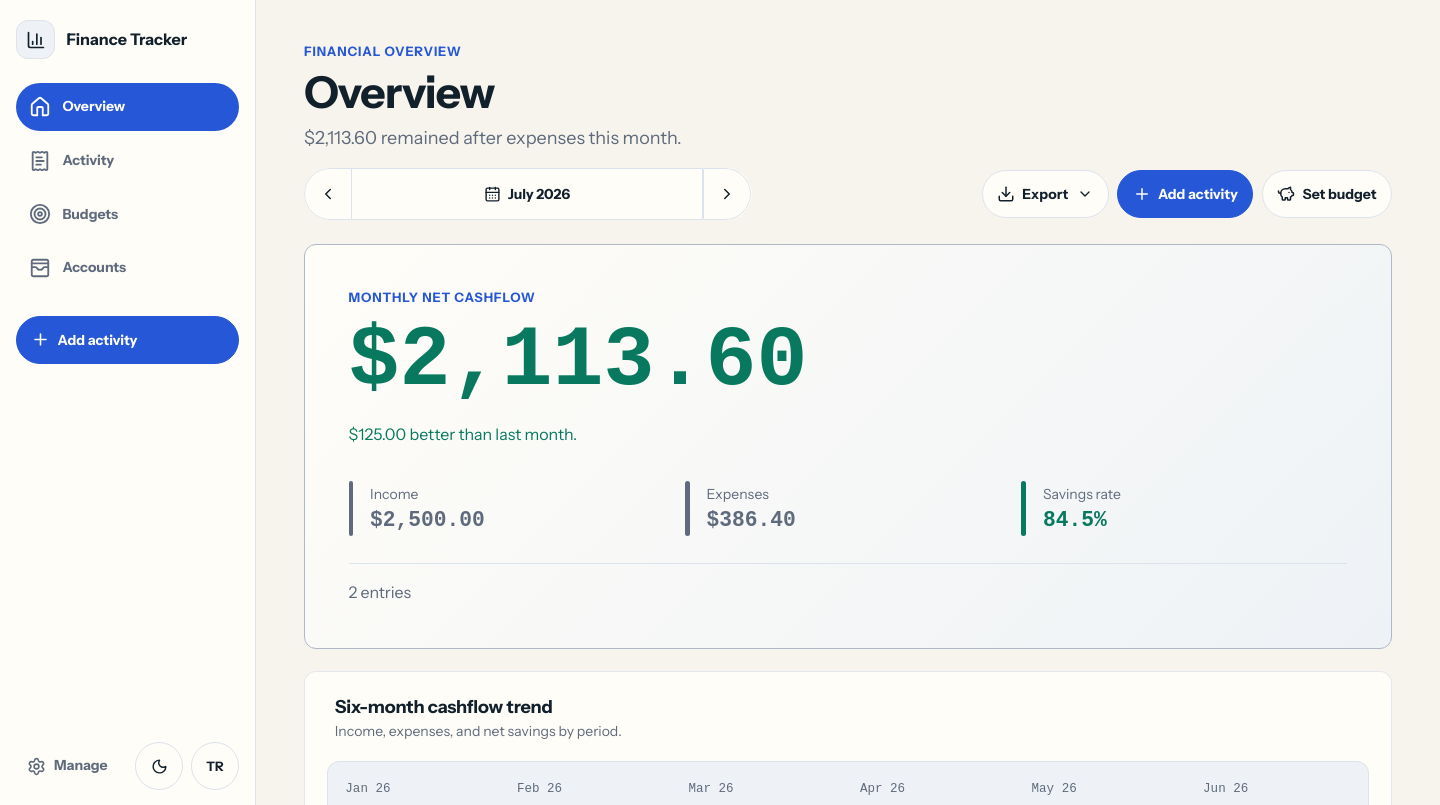
Test: dashboard workflow › opens the selected-period budget form from the dashboard
The image size is (1440, 805).
Check: the heading "Overview" is shown, box [304,65,494,119]
Click the button "Set budget". click: (1327, 194)
box: [1262,170,1392,218]
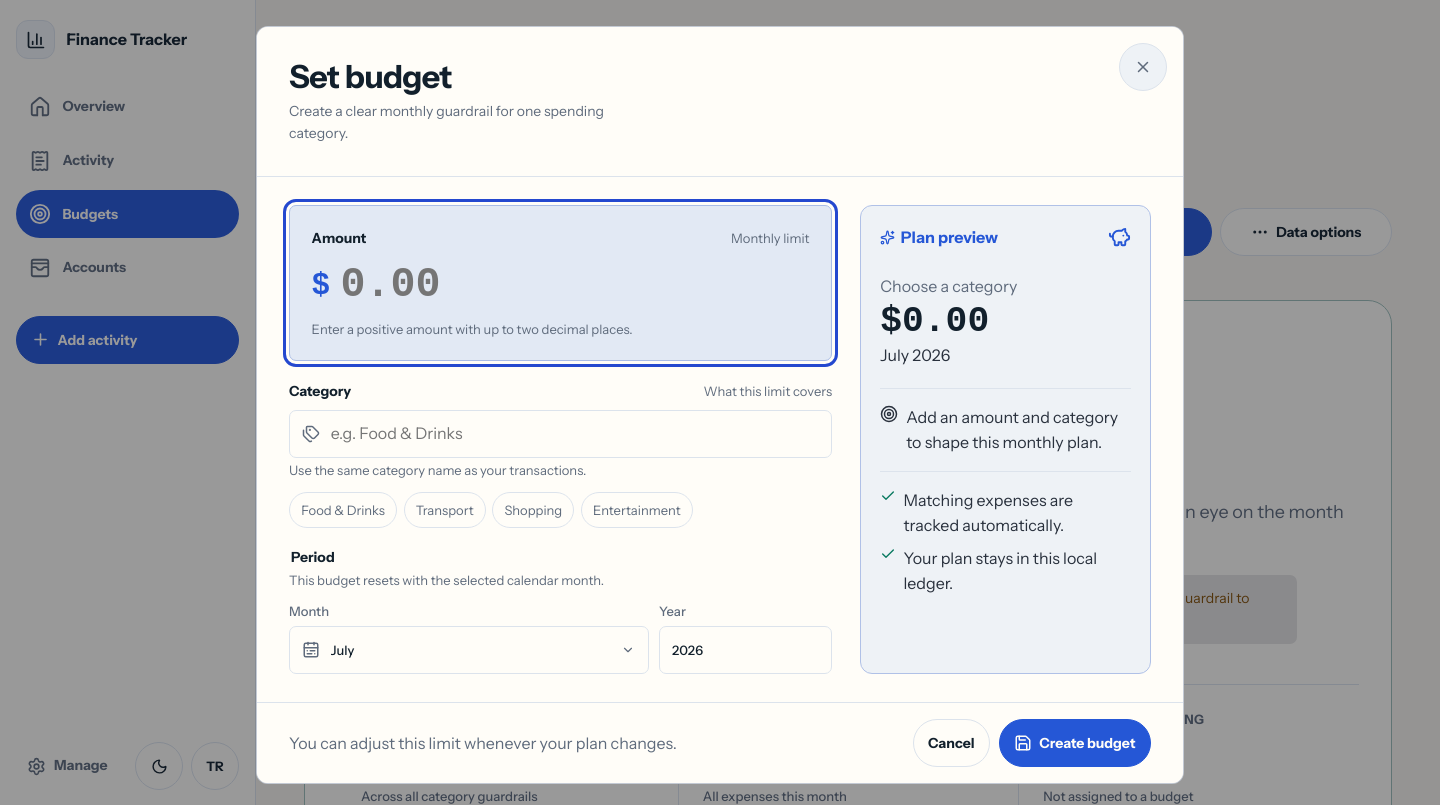
Check: the dropdown labelled "Month" shows "July", box [289,626,648,674]
Check: the number field labelled "Year" holds "2026", box [659,626,832,674]
